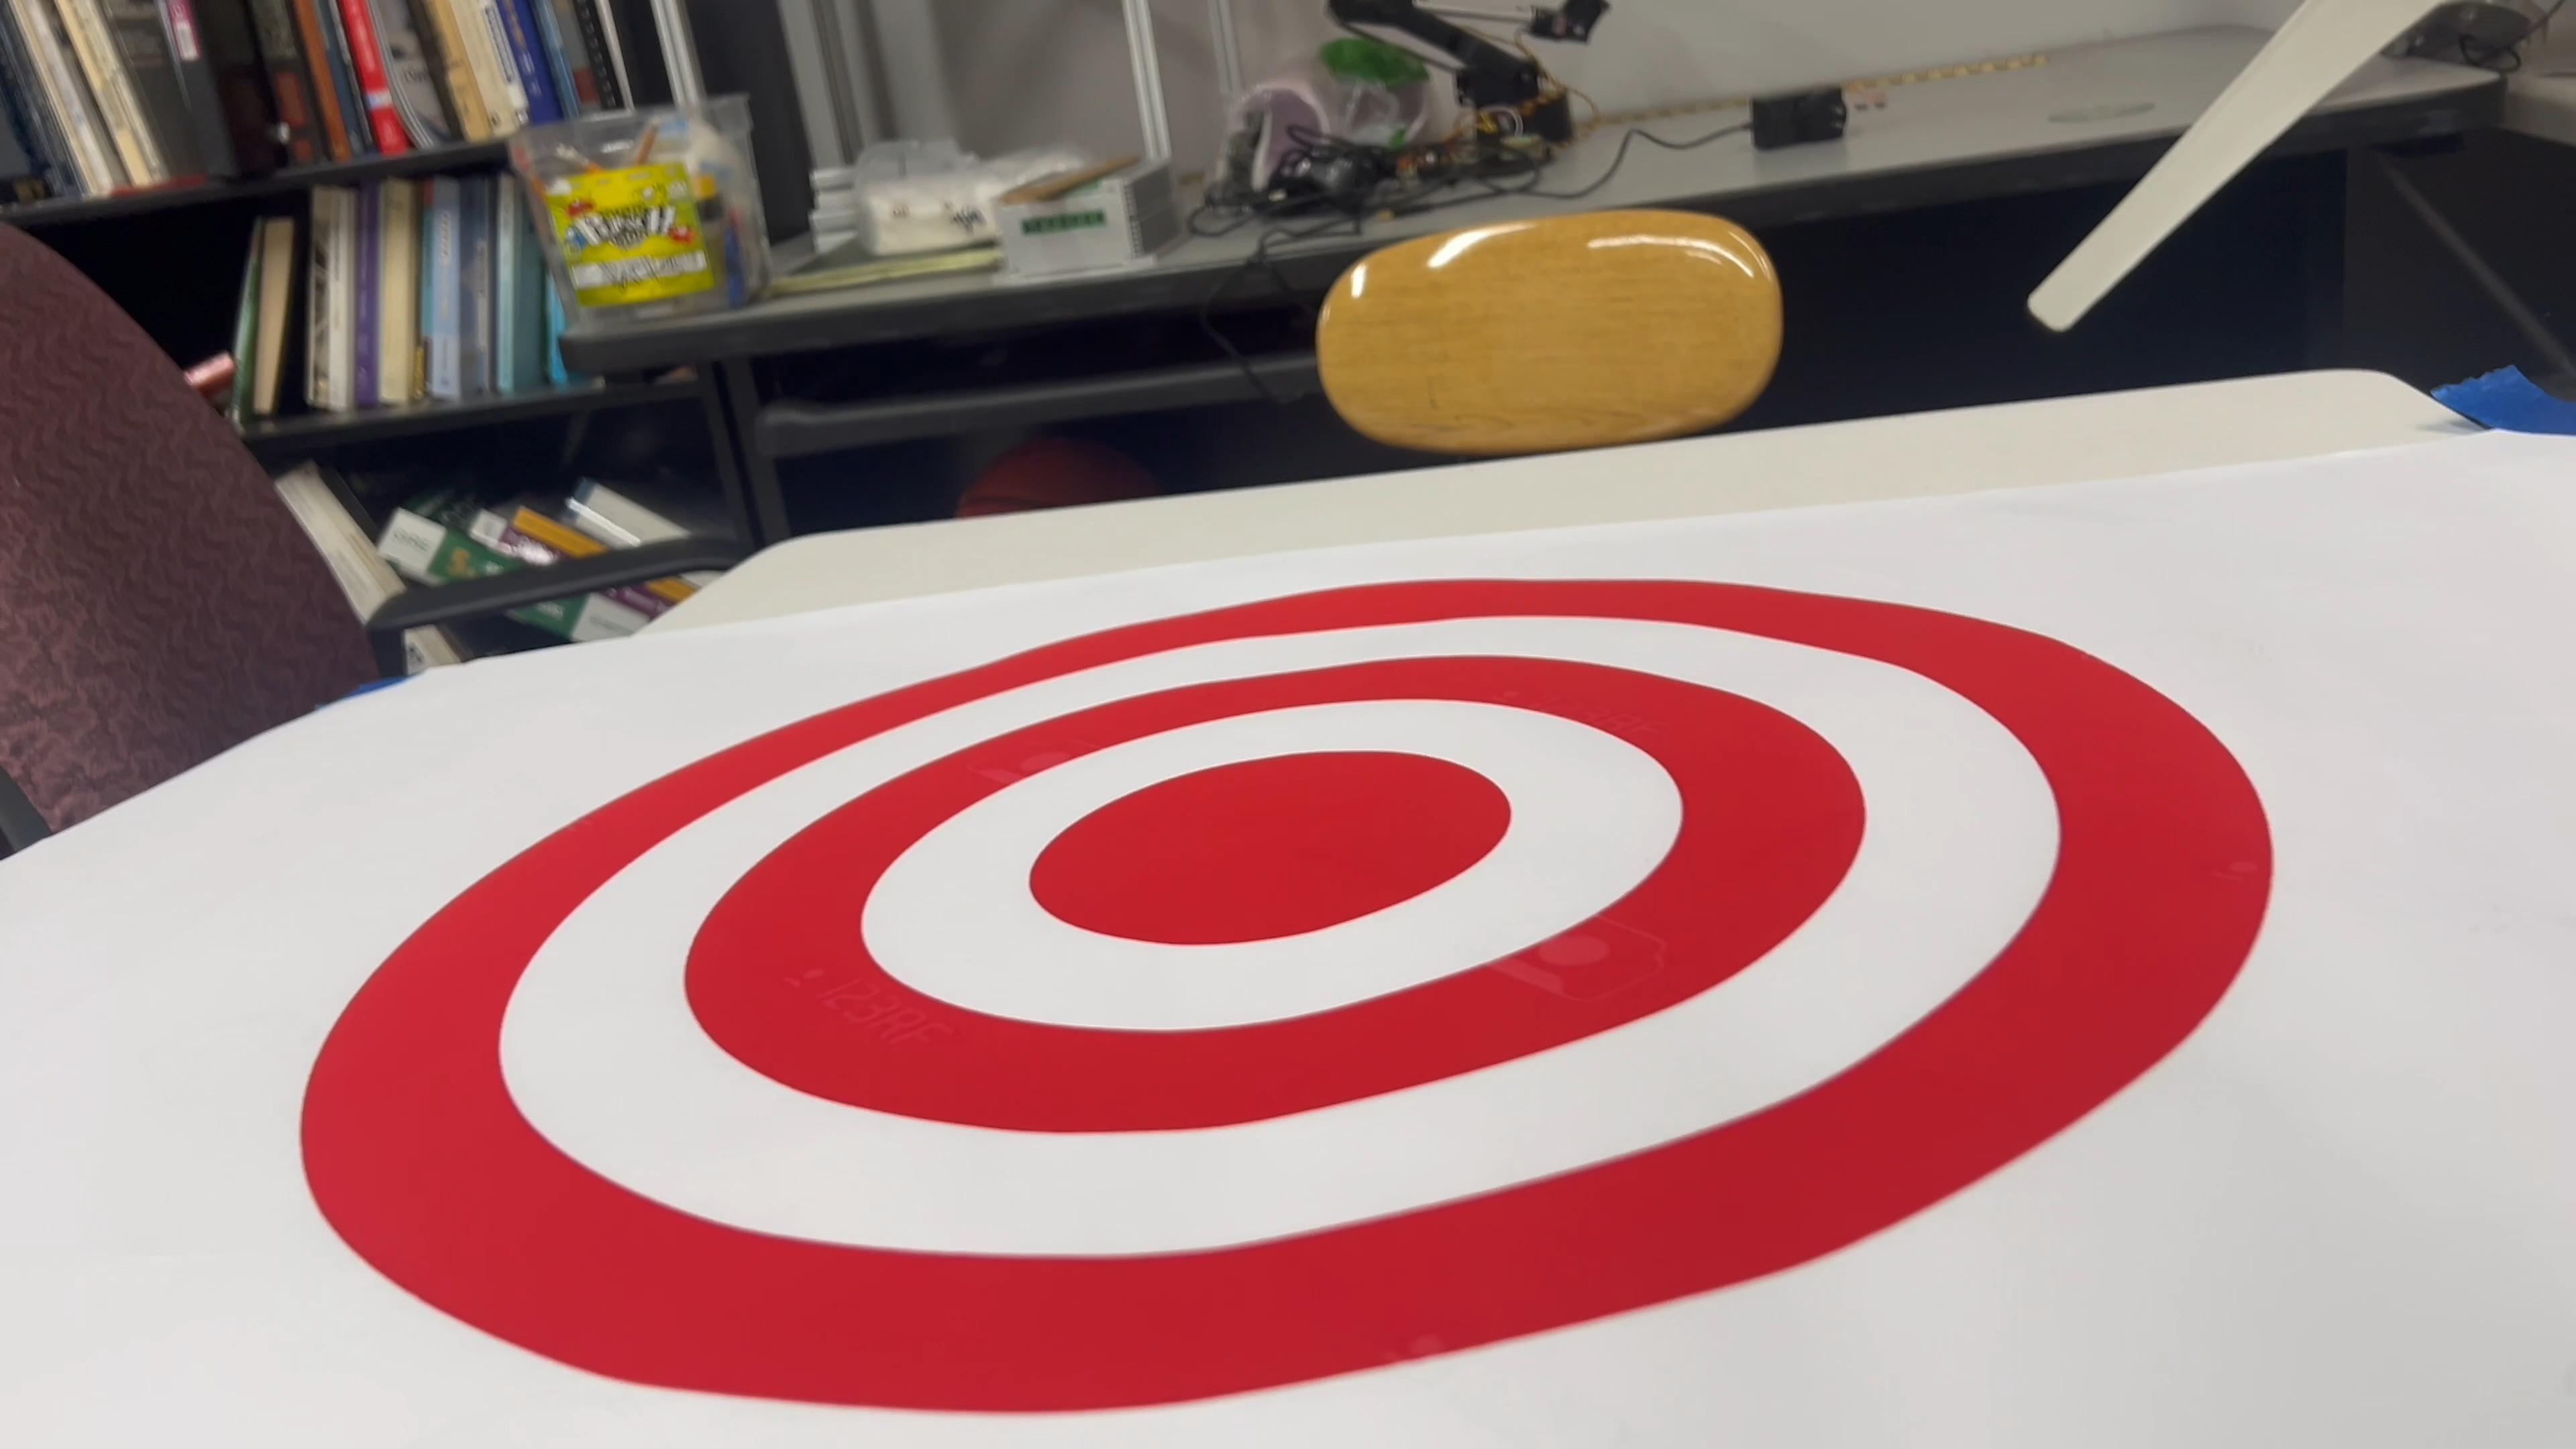target_red: (253, 555, 2321, 1449)
